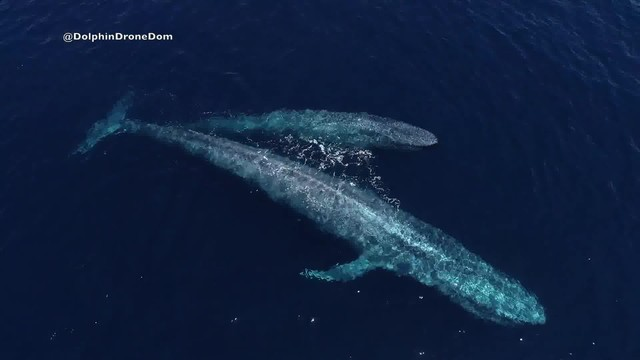whale: (68, 83, 549, 335), (149, 106, 439, 157)
